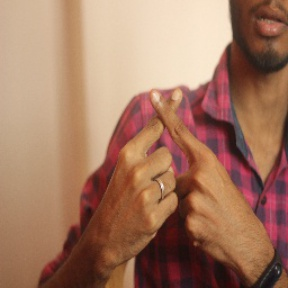X: (110, 73, 222, 191)
